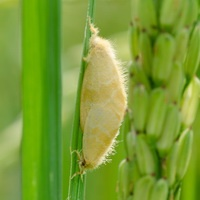insect: (76, 18, 125, 171)
